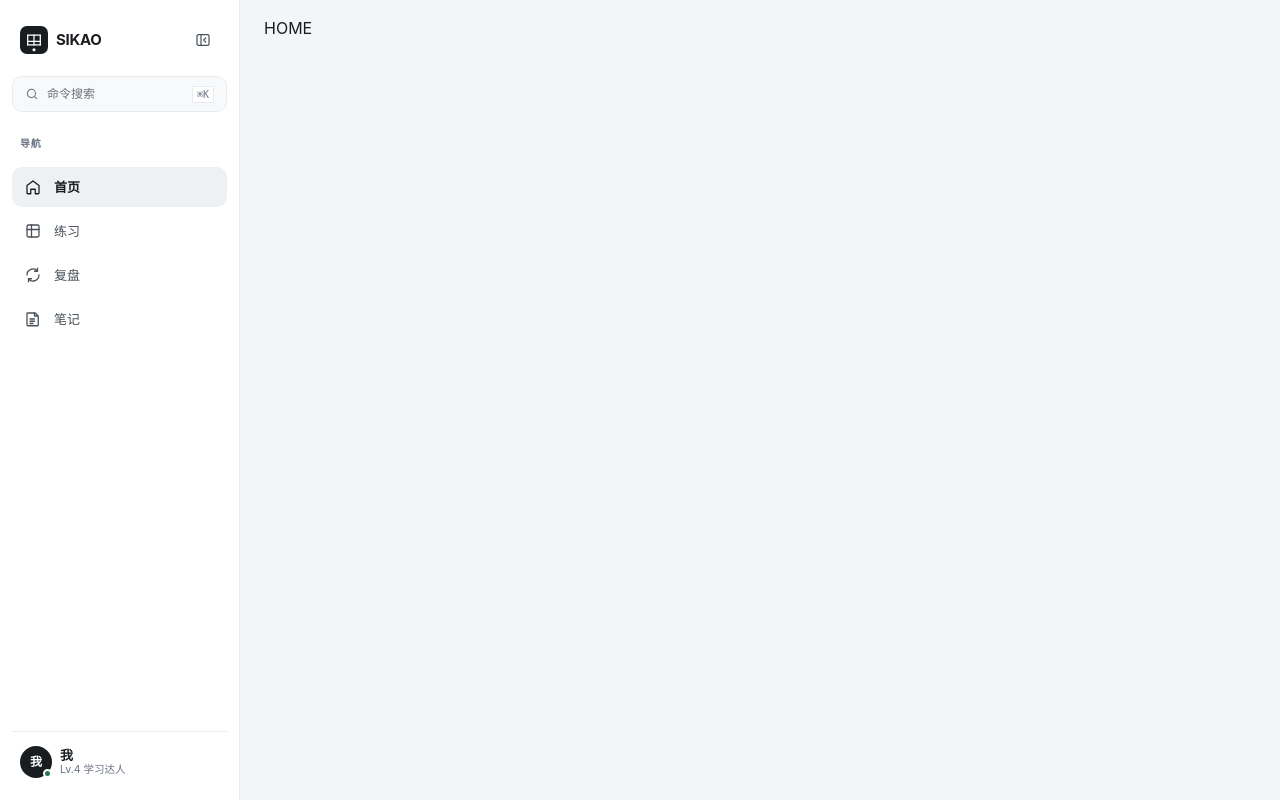
Test case: RootLayout (V5 §D.4 SaaS shell) › opens an account popover with the locked 8-item map and disabled entries rendered as non-links
Click the button with test id "rail-me-trigger". click: click(120, 762)
box: x1=12 y1=740 x2=227 y2=784
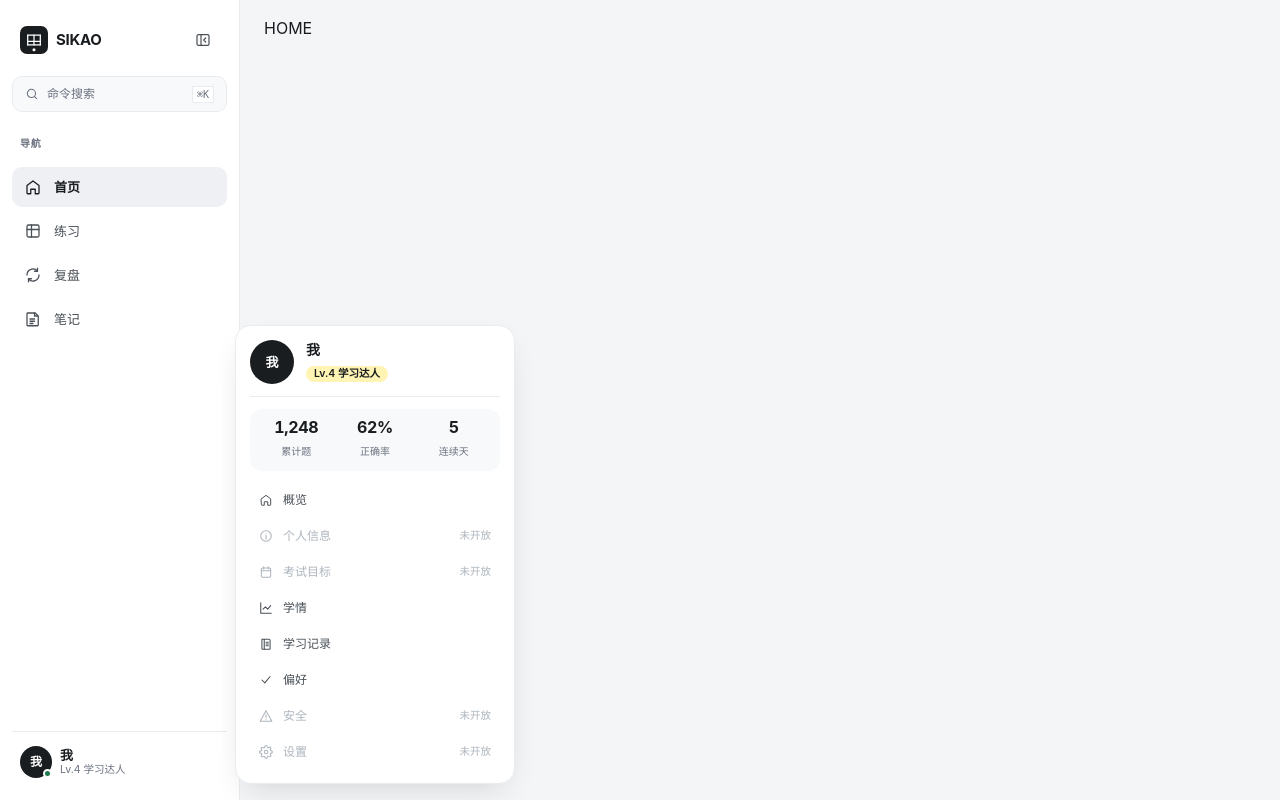
Now the element with test id "rail-me-menu" is shown, box x1=250 y1=340 x2=500 y2=769
Now the dialog named "账户菜单" is shown, box x1=235 y1=325 x2=515 y2=784
Now the element with test id "rail-me-menu-head" is shown, box x1=250 y1=340 x2=500 y2=397
